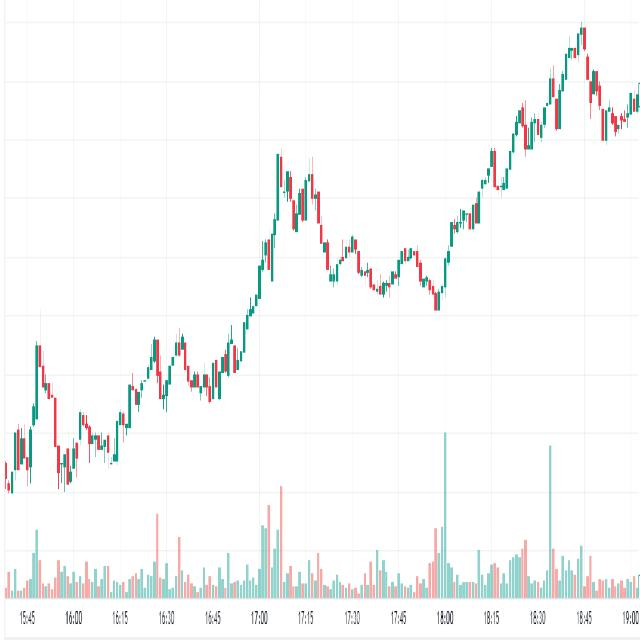Double-Top: (268, 139, 327, 269)
